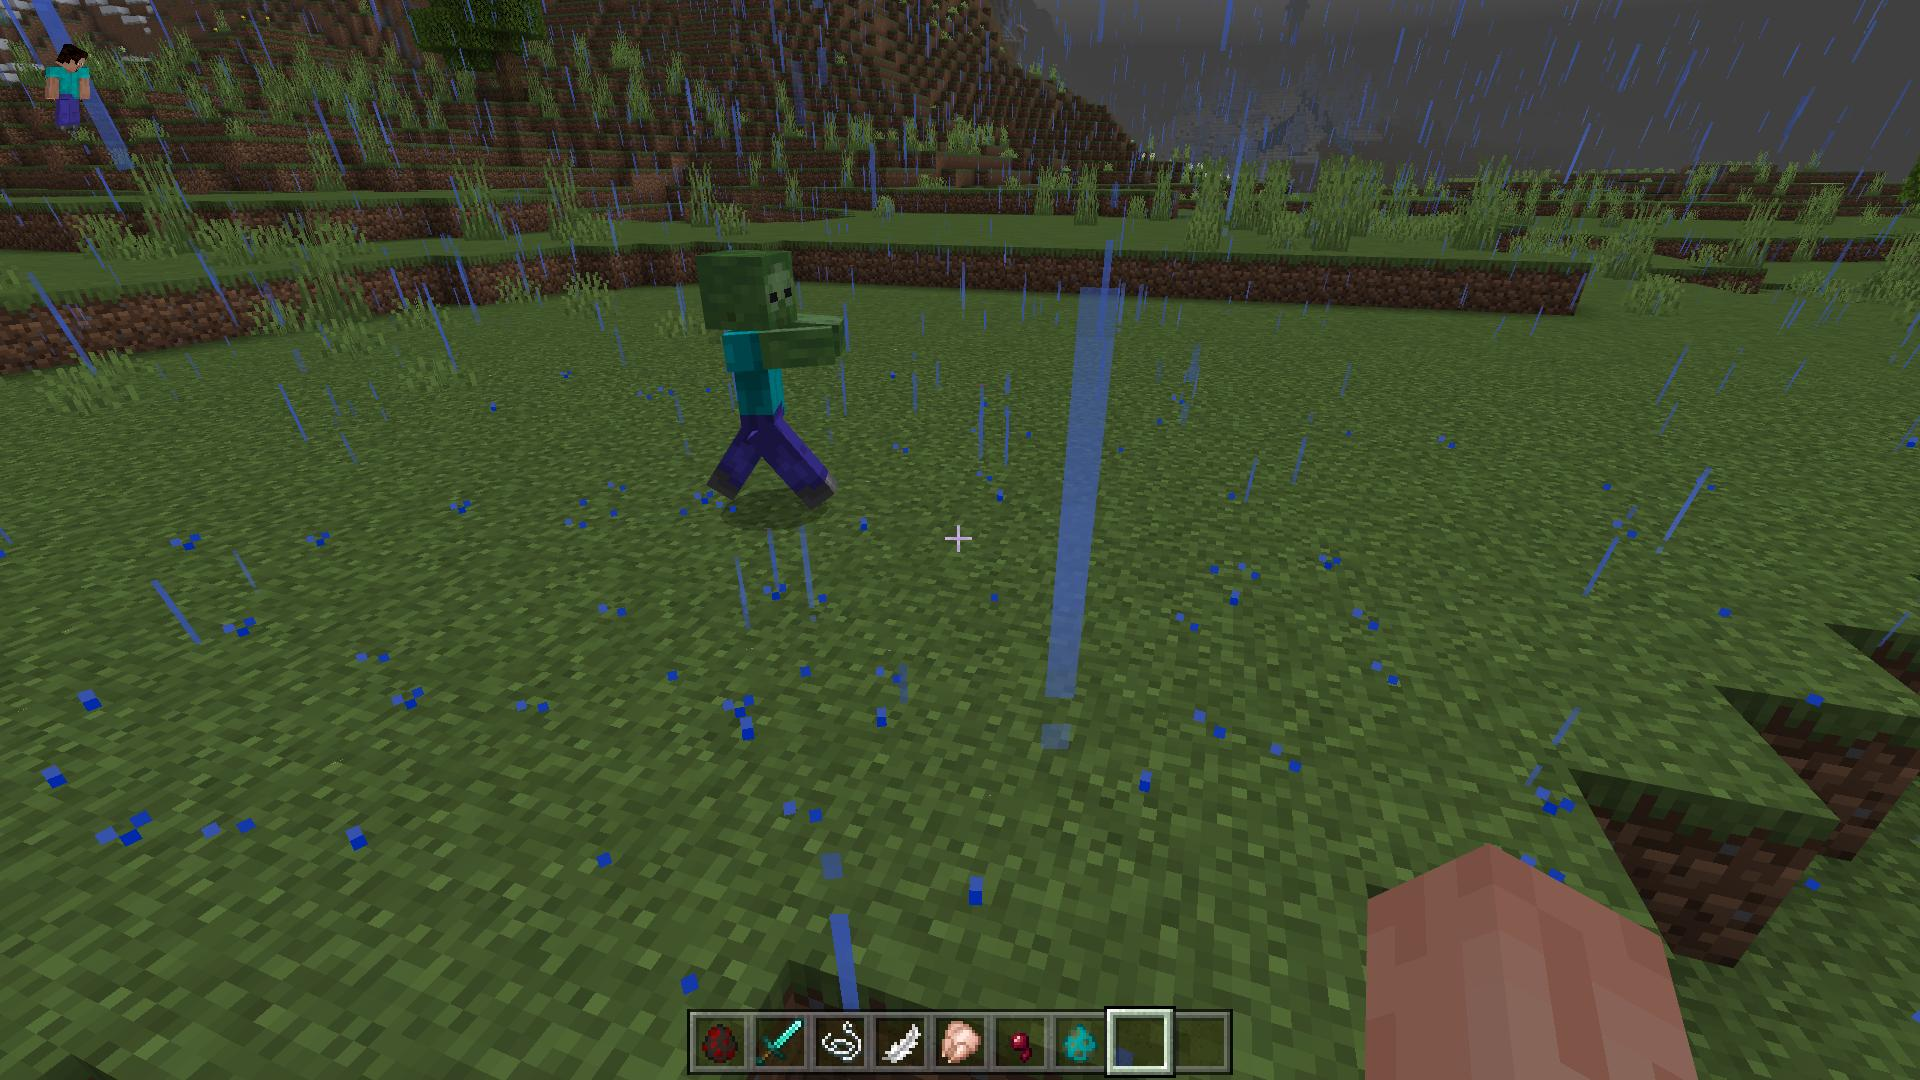zombie: (694, 241, 851, 516)
